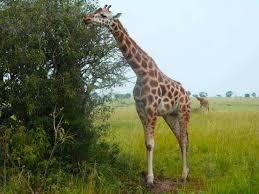giraffe: (82, 3, 194, 190), (190, 91, 211, 111)
